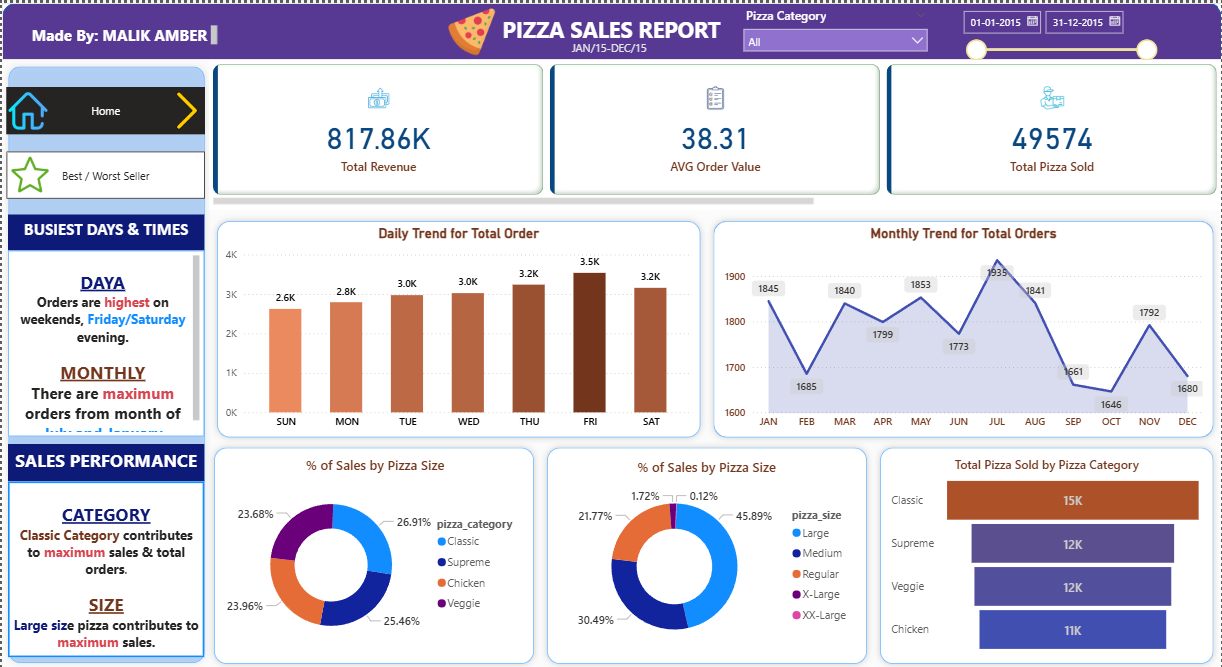

What the dashboard file says about the page in this screenshot:
{"tool":"powerbi","page":{"name":"Home","canvas":[1500,820],"ordinal":0},"visuals":[{"type":"shape","box":[0,70.3,257.2,749.4],"z":0},{"type":"shape","box":[0,0,1500.6,70.3],"z":1000},{"type":"shape","box":[866.7,260,630.7,282.2],"z":2000},{"type":"image","box":[526.7,0,100,70],"z":3000},{"type":"shape","box":[256.3,260,610.4,282.2],"z":4000},{"type":"shape","box":[252.6,538.5,409.4,282.2],"z":5000},{"type":"shape","box":[662,538.5,409.4,282.2],"z":6000},{"type":"shape","box":[1071.4,538.5,426,282.2],"z":7000},{"type":"cardVisual","fields":{"Data":["pizza_sales.Total Revenue","pizza_sales.AVG Order Value","pizza_sales.Total Pizza Sold","pizza_sales.Total Orders","pizza_sales.Avg Pizzas Per Order"]},"box":[254.5,70.1,1244.8,184.4],"z":8000},{"type":"columnChart","title":"Daily Trend for Total Order","fields":{"Category":["pizza_sales.Order Day"],"Y":["pizza_sales.Total Orders"]},"box":[269.2,272.9,584.6,260],"z":9000},{"type":"areaChart","title":"Monthly Trend for Total Orders","fields":{"Category":["pizza_sales.Order Month"],"Y":["pizza_sales.Total Orders"]},"box":[883.3,272.9,597.5,260],"z":10000},{"type":"funnel","title":"Total Pizza Sold by Pizza Category","fields":{"Category":["pizza_sales.pizza_category"],"Y":["pizza_sales.Total Pizza Sold"]},"box":[1088,556.9,392.8,247.1],"z":11000},{"type":"textbox","box":[7.4,260,241.6,44.3],"z":12000},{"type":"textbox","box":[685,40,125,30],"z":13000},{"type":"textbox","box":[600,10,300,60],"z":14000},{"type":"textbox","box":[7.4,304.3,241.6,228.7],"z":15000},{"type":"textbox","box":[7.4,542.2,241.6,46.1],"z":16000},{"type":"textbox","box":[7.4,588.3,241.6,215.8],"z":17000},{"type":"slicer","title":"% of Sales by Pizza Category","fields":{"Values":["pizza_sales.pizza_category"]},"box":[901.1,0,246.1,70.3],"z":18000},{"type":"donutChart","title":"% of Sales by Pizza Size","fields":{"Category":["pizza_sales.pizza_size"],"Y":["pizza_sales.Total Revenue"]},"box":[677,559.7,379.1,246],"z":19000},{"type":"slicer","title":"% of Sales by Pizza Category","fields":{"Values":["pizza_sales.order_date"]},"box":[1169.4,0,259,70.3],"z":20000},{"type":"donutChart","title":"% of Sales by Pizza Size","fields":{"Category":["pizza_sales.pizza_category"],"Y":["pizza_sales.Total Revenue"]},"box":[268.6,557.4,379.1,246],"z":21000},{"type":"pageNavigator","box":[6,104,244,58],"z":22000},{"type":"pageNavigator","box":[6,182,244,58],"z":23000},{"type":"image","box":[200,104,56,58],"z":24000},{"type":"image","box":[0,104,64,58],"z":25000},{"type":"image","box":[6,182,58,56],"z":26000},{"type":"textbox","box":[32,22,238,34],"z":27000}]}

Visuals, with their boxes in screenshot pixels (x1, y1, x2, y2), scaled from the page's 1500x820 canvas onto the 1222x667 screenshot:
shape: 0:57:210:666
shape: 0:0:1221:57
shape: 706:211:1220:441
image: 429:0:511:57
shape: 209:211:706:441
shape: 206:438:539:666
shape: 539:438:873:666
shape: 873:438:1220:666
cardVisual - pizza_sales.Total Revenue x pizza_sales.AVG Order Value: 207:57:1221:207
"Daily Trend for Total Order" columnChart: 219:222:696:433
"Monthly Trend for Total Orders" areaChart: 720:222:1206:433
"Total Pizza Sold by Pizza Category" funnel: 886:453:1206:654
textbox: 6:211:203:248
textbox: 558:33:660:57
textbox: 489:8:733:57
textbox: 6:248:203:434
textbox: 6:441:203:479
textbox: 6:479:203:654
"% of Sales by Pizza Category" slicer: 734:0:935:57
"% of Sales by Pizza Size" donutChart: 552:455:860:655
"% of Sales by Pizza Category" slicer: 953:0:1164:57
"% of Sales by Pizza Size" donutChart: 219:453:528:653
pageNavigator: 5:85:204:132
pageNavigator: 5:148:204:195
image: 163:85:209:132
image: 0:85:52:132
image: 5:148:52:194
textbox: 26:18:220:46
